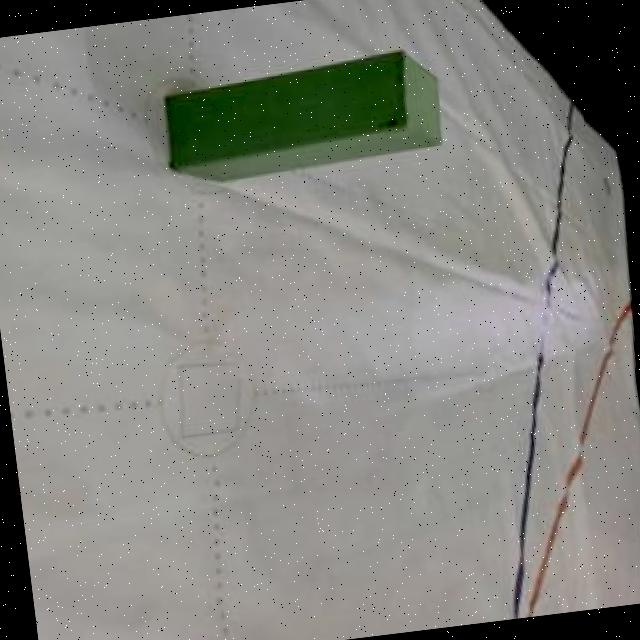greenbox: (160, 46, 450, 184)
